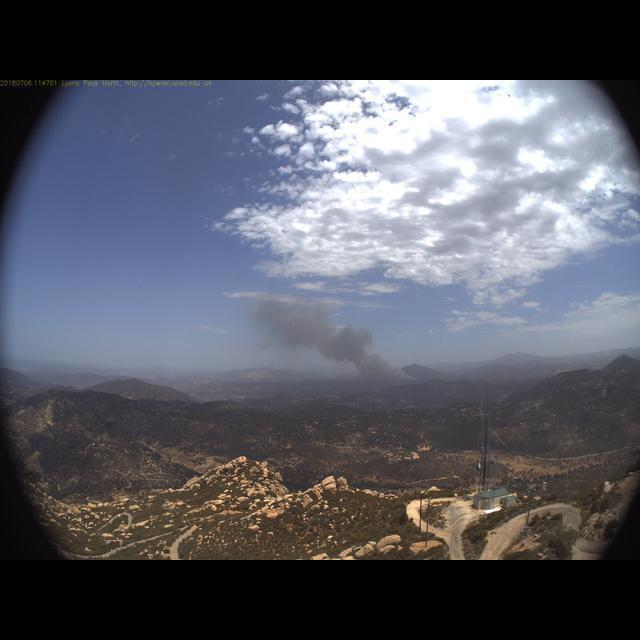Smoke: (229, 284, 420, 395)
